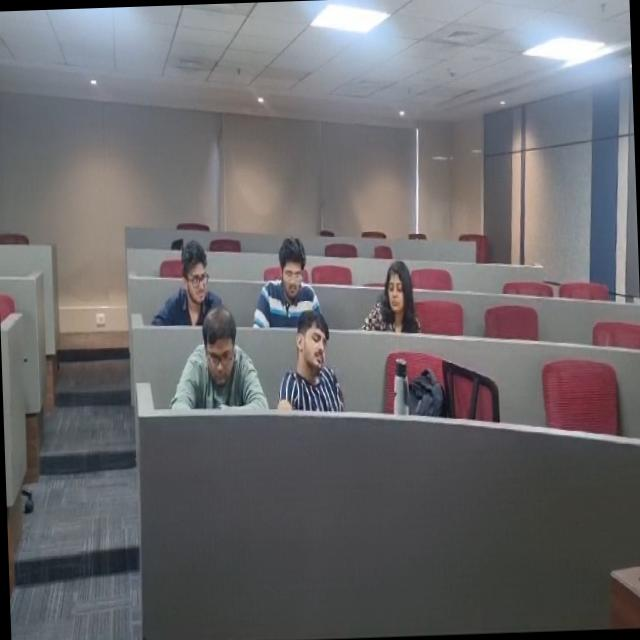cheating: (264, 306, 348, 412), (156, 243, 222, 318)
non-cheating: (172, 303, 262, 419), (250, 222, 326, 324), (362, 241, 431, 345)
